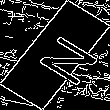N_NW: (19, 24, 91, 86)
